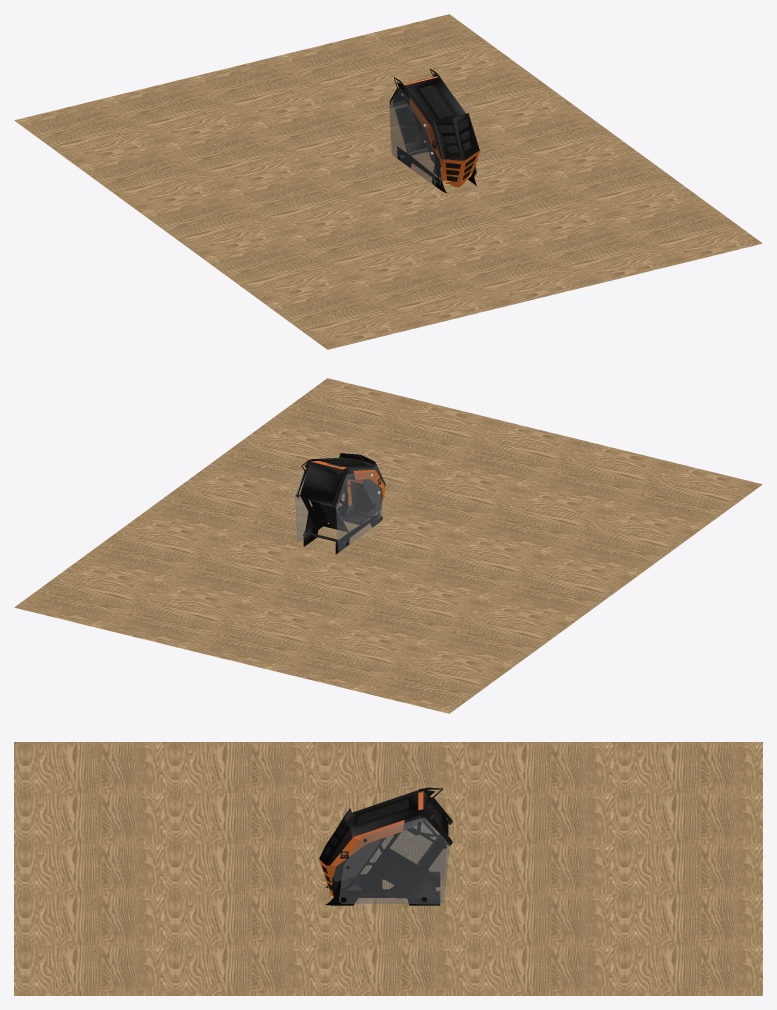
Rendered from Cougar Gaming PC.glb.
3 views of the same model, one above another, from view 1: azimuth 30°, elevation 25°; view 2: azimuth 150°, elevation 25°; view 3: azimuth 270°, elevation 25° (orthographic). The views are drawn at different scales.
Parts seen in each view (by area): view 1: Plane, Glass, Top Cvr, Top Front Cover, Frame, Btm Front Cvr; view 2: Plane, Glass, Frame, Foot; view 3: Plane, Glass, Frame, Top Cvr, Top Cvr 1, Rgt Side Cvr, Foot, Rgt Handle, Top Front Cover, Top Grill.
Boxes of the visible parts, x1,y1,x2,y2 form: Plane: (14,14,762,349); Glass: (389,83,476,185); Top Cvr: (402,77,465,126); Top Front Cover: (431,113,479,160); Frame: (389,76,476,186); Btm Front Cvr: (439,150,479,187); Plane: (14,378,762,713); Glass: (295,467,382,551); Frame: (295,461,382,545); Foot: (303,505,382,554); Plane: (14,742,762,995); Glass: (339,817,449,904); Frame: (331,791,448,902); Top Cvr: (345,790,422,837); Top Cvr 1: (330,820,404,866); Rgt Side Cvr: (333,840,379,881); Foot: (325,871,440,905); Rgt Handle: (418,787,452,845); Top Front Cover: (319,808,352,865); Top Grill: (357,799,408,824).
Bounding box in the file's own units: 38.05 × 7.17 × 47.45.
20 materials, 8 textured.
